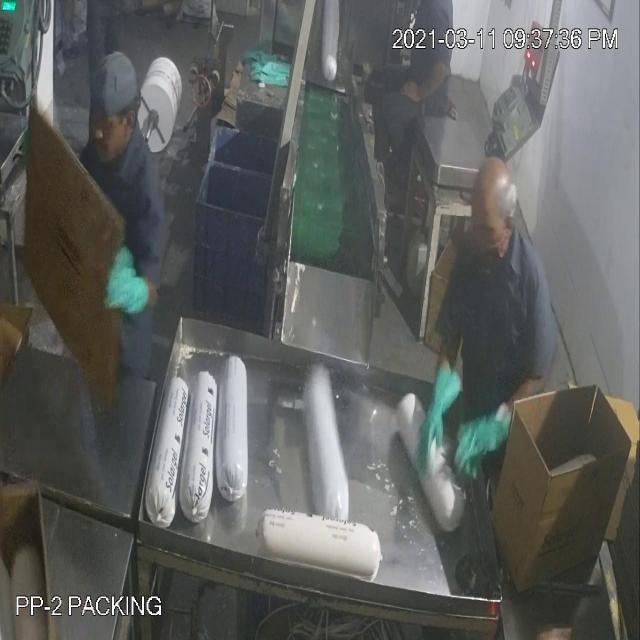Gloves: (54, 51, 479, 446)
